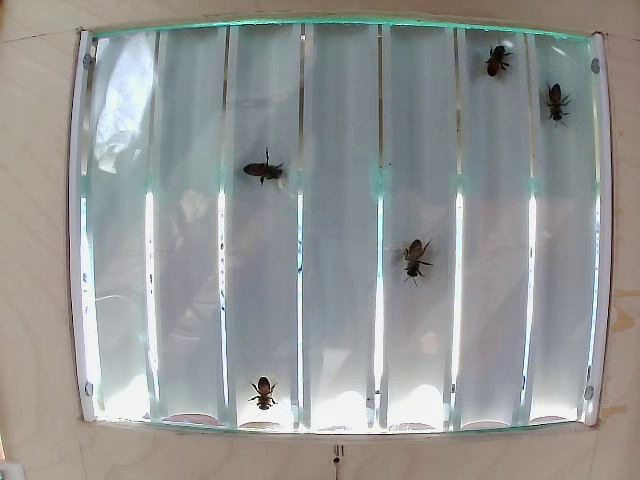bee: (243, 155, 280, 197), (537, 79, 572, 123), (394, 253, 437, 280), (242, 379, 285, 404), (487, 52, 509, 85)
